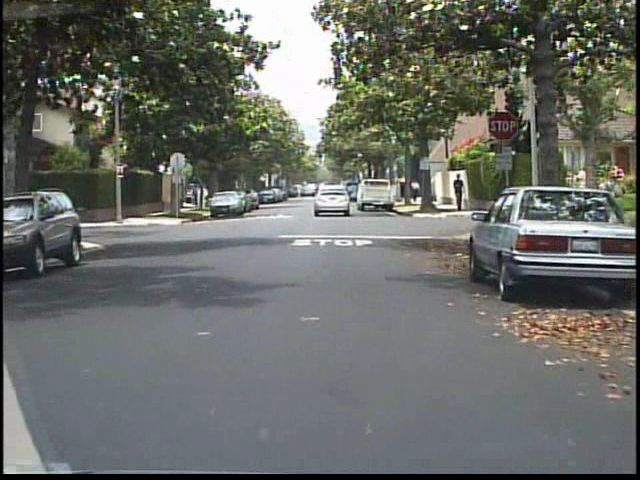person: (449, 171, 471, 216), (411, 177, 422, 205)
